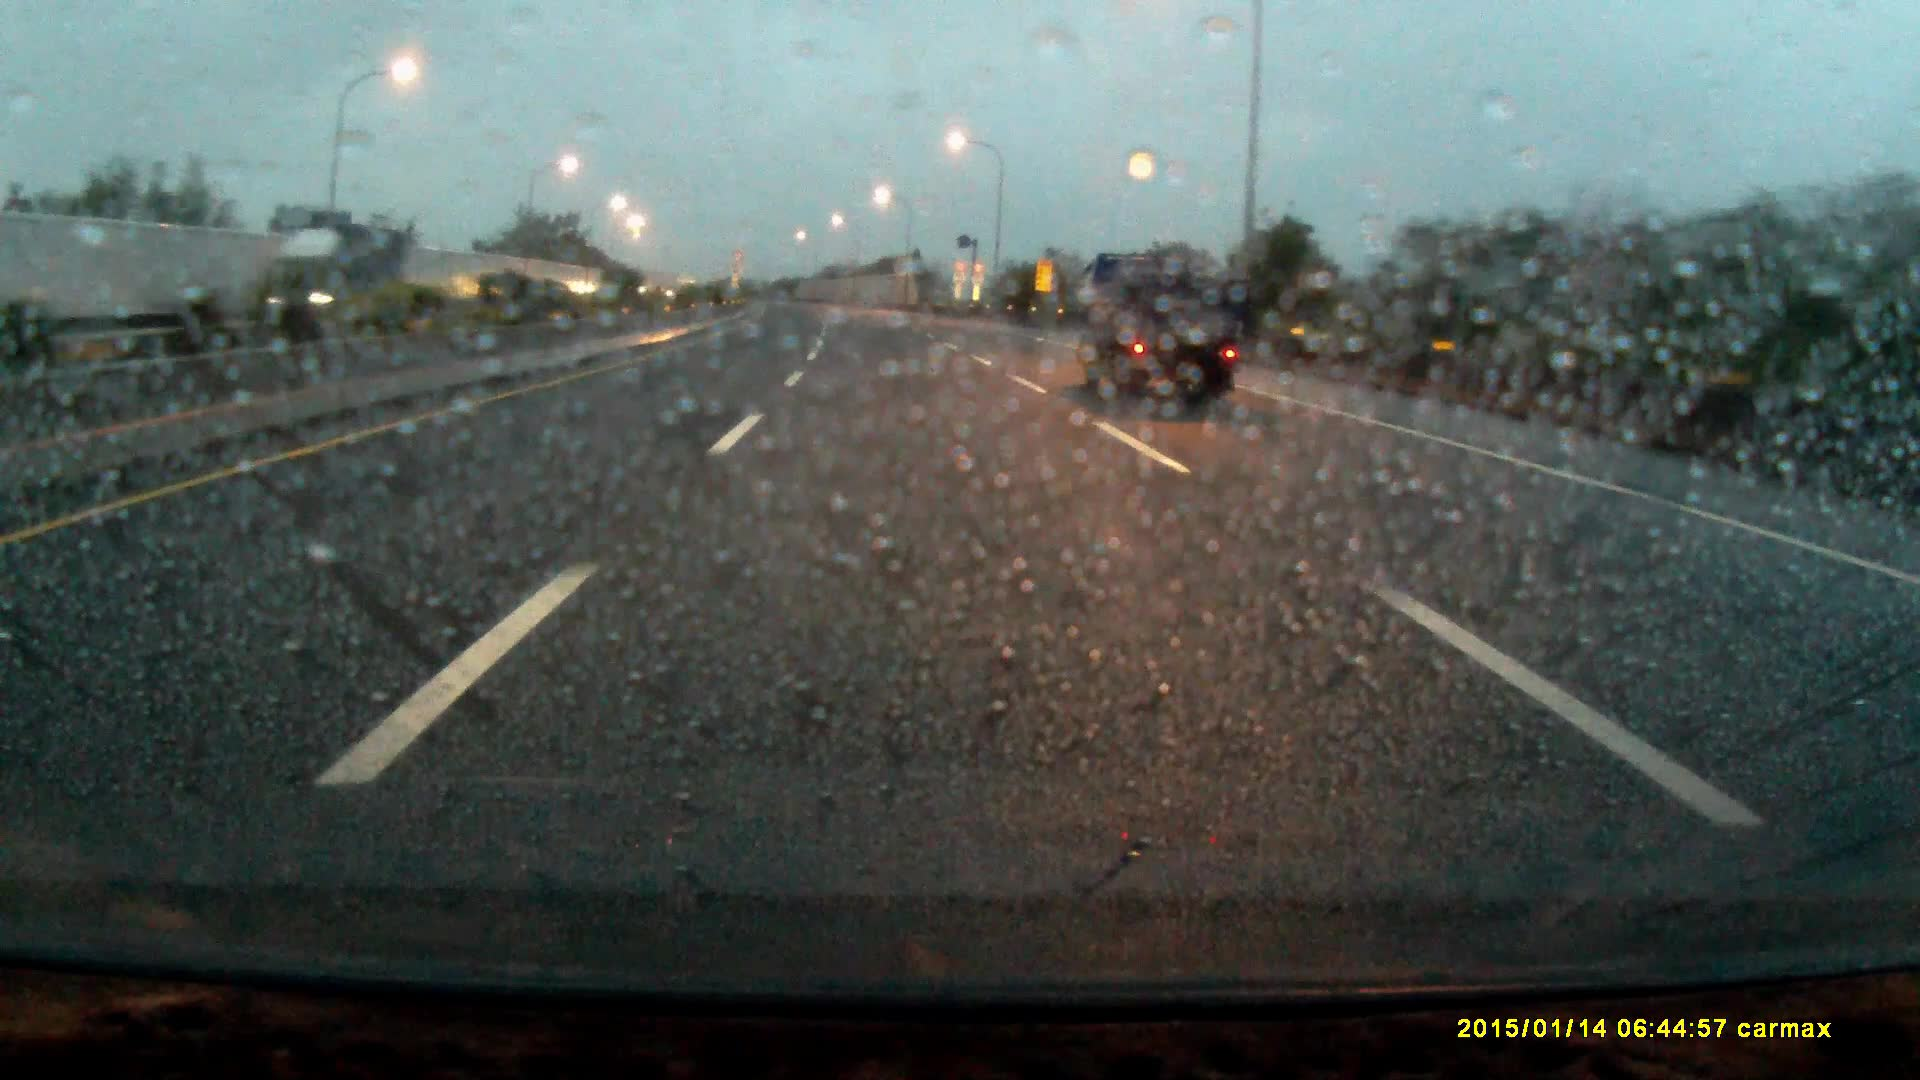vehicle: (1071, 248, 1234, 406), (256, 222, 397, 338)
